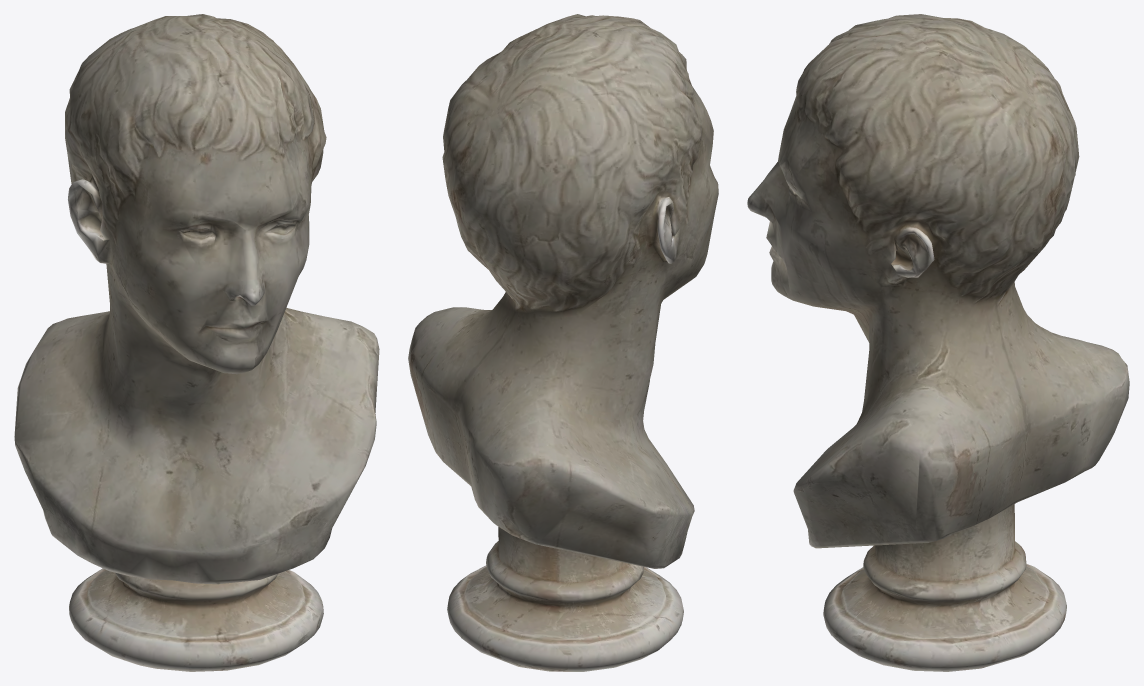
Rendered from marble_bust_01.glb.
3 views of the same model, side by side, from view 1: azimuth 30°, elevation 25°; view 2: azimuth 150°, elevation 25°; view 3: azimuth 270°, elevation 25° (orthographic). The views are drawn at different scales.
Visible parts, largest first — view 1: marble_bust_01; view 2: marble_bust_01; view 3: marble_bust_01.
Boxes of the visible parts, x1,y1,x2,y2 form: marble_bust_01: (14, 14, 379, 671); marble_bust_01: (408, 14, 718, 671); marble_bust_01: (747, 14, 1129, 671).
Bounding box in the file's own units: 0.2718 × 0.5148 × 0.2997.
1 material, 1 textured.
